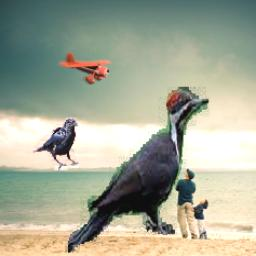Crow: (33, 118, 80, 170)
Woodpecker: (65, 88, 210, 254)
